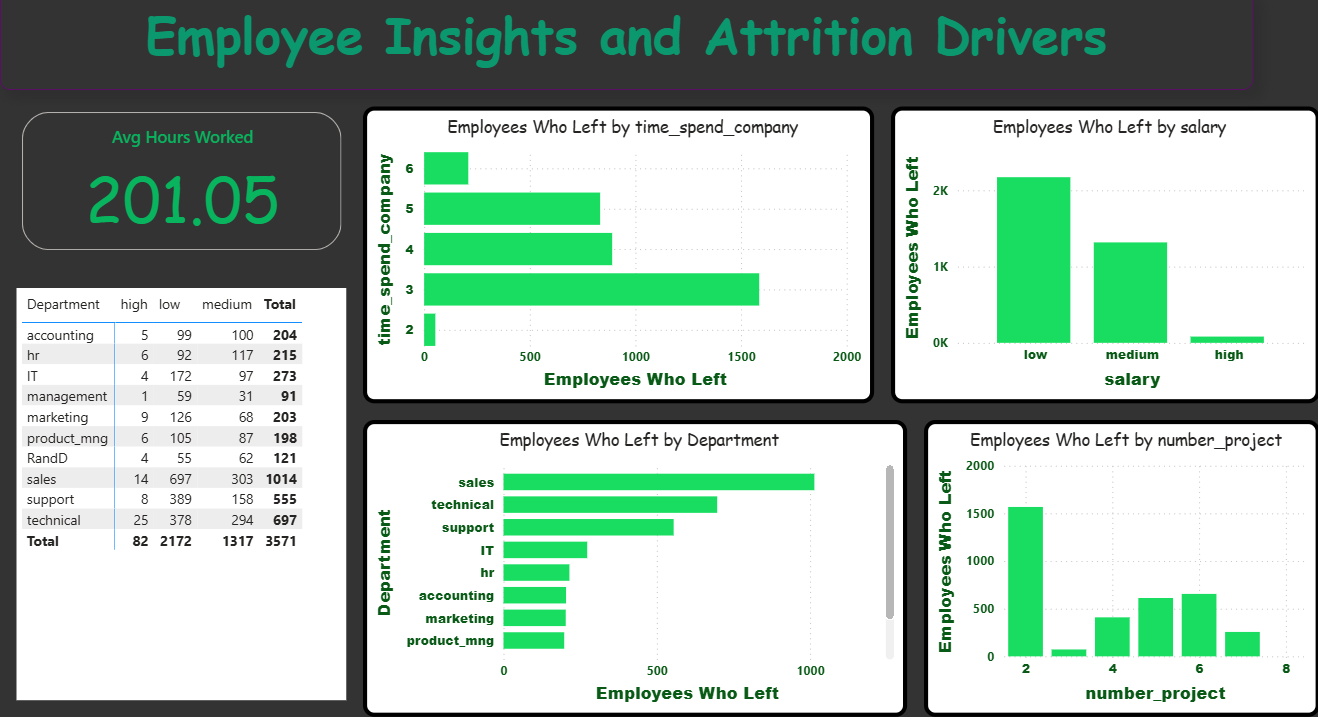

This screenshot's page, from the dashboard's own definition file:
{"tool":"powerbi","page":{"name":"Performance","canvas":[1280,720],"ordinal":1},"visuals":[{"type":"clusteredBarChart","fields":{"Category":["HR_comma_sep.Department"],"Y":["HR_comma_sep.Employees Who Left"]},"box":[352,416,528,288],"z":0},{"type":"clusteredColumnChart","fields":{"Category":["HR_comma_sep.salary"],"Y":["HR_comma_sep.Employees Who Left"]},"box":[864,112,416,288],"z":1000},{"type":"barChart","fields":{"Category":["HR_comma_sep.time_spend_company"],"Y":["HR_comma_sep.Employees Who Left"]},"box":[352,112,496,288],"z":2000},{"type":"pivotTable","fields":{"Rows":["HR_comma_sep.Department"],"Columns":["HR_comma_sep.salary"],"Values":["HR_comma_sep.Employees Who Left"]},"box":[16,288,320,400],"z":3000},{"type":"clusteredColumnChart","fields":{"Category":["HR_comma_sep.number_project"],"Y":["HR_comma_sep.Employees Who Left"]},"box":[896,416,384,288],"z":4000},{"type":"textbox","box":[0,0,1216,96],"z":5000},{"type":"cardVisual","fields":{"Data":["HR_comma_sep.Avg Hours Worked"]},"box":[16,112,320,144],"z":6000}]}

Visuals, with their boxes in screenshot pixels (x1, y1, x2, y2):
clusteredBarChart - HR_comma_sep.Department x HR_comma_sep.Employees Who Left: rect(365, 417, 903, 710)
clusteredColumnChart - HR_comma_sep.salary x HR_comma_sep.Employees Who Left: rect(887, 107, 1311, 401)
barChart - HR_comma_sep.time_spend_company x HR_comma_sep.Employees Who Left: rect(365, 107, 871, 401)
pivotTable - HR_comma_sep.Department x HR_comma_sep.salary: rect(23, 287, 349, 694)
clusteredColumnChart - HR_comma_sep.number_project x HR_comma_sep.Employees Who Left: rect(920, 417, 1311, 710)
textbox: rect(7, 0, 1246, 91)
cardVisual - HR_comma_sep.Avg Hours Worked: rect(23, 107, 349, 254)
